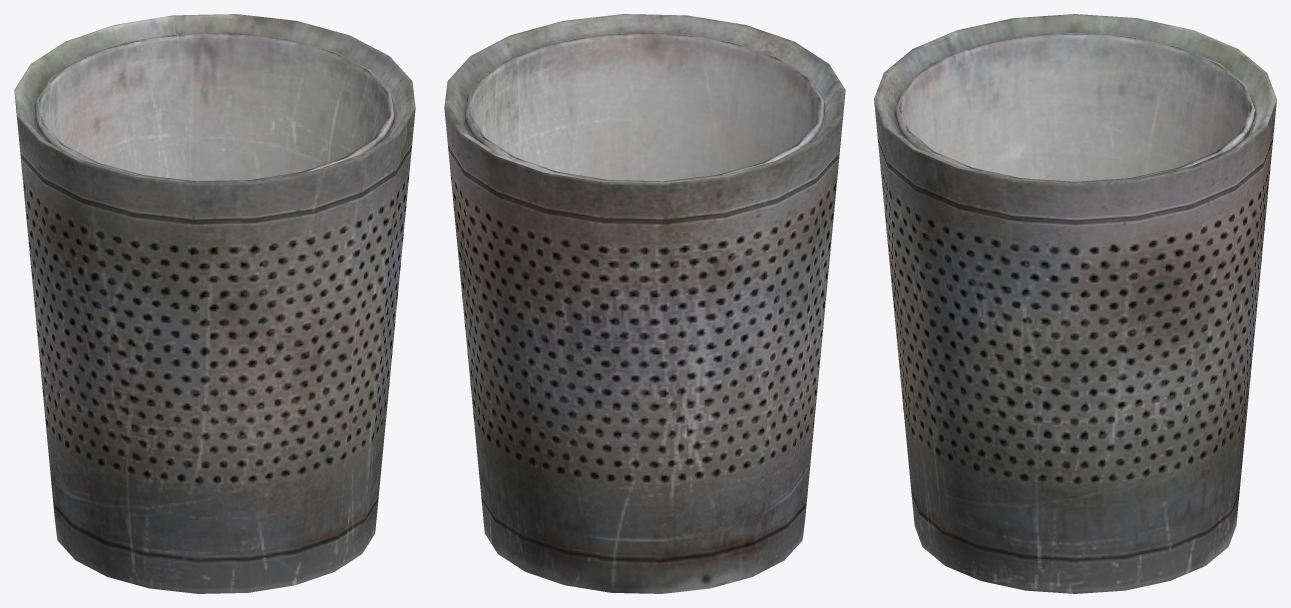
Rendered from paper_basket.dae.
3 renders of one model, left to right at view 1: azimuth 30°, elevation 25°; view 2: azimuth 150°, elevation 25°; view 3: azimuth 270°, elevation 25°, orthographic.
Visible parts, largest first — view 1: paper_basket; view 2: paper_basket; view 3: paper_basket.
Part boxes in pixels (left/top/right/bottom): paper_basket: left=14, top=14, right=415, bottom=593; paper_basket: left=444, top=14, right=845, bottom=593; paper_basket: left=874, top=14, right=1276, bottom=593.
Bounding box in the file's own units: 0.2542 × 0.2971 × 0.2542.
